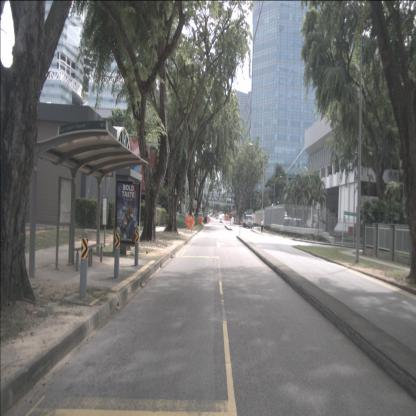human-pedestrian-adult: (260, 219, 264, 234)
vehicle-car: (290, 218, 304, 229), (283, 217, 294, 227), (204, 216, 208, 224)
vehicle-truck: (243, 212, 253, 228)
